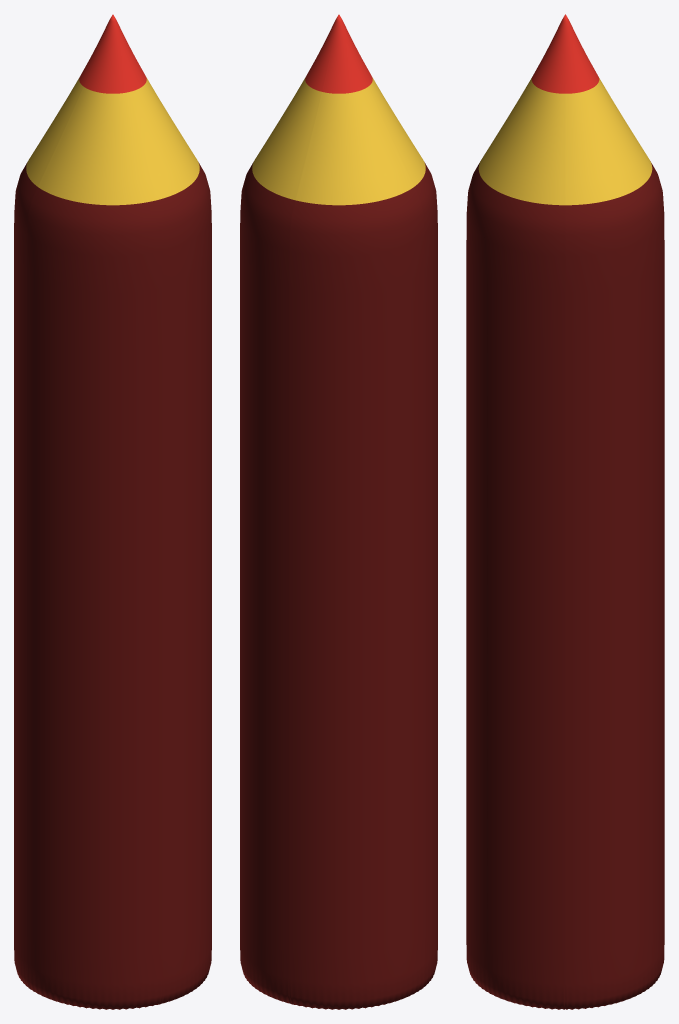
File: Stift.fbx
The picture shows the model from 3 angles, left to right: view 1: azimuth 30°, elevation 25°; view 2: azimuth 150°, elevation 25°; view 3: azimuth 270°, elevation 25°; orthographic projection.
Visible parts, largest first — view 1: Cube; view 2: Cube; view 3: Cube.
Part boxes in pixels (<box>): Cube: <box>14,14,211,1009</box>; Cube: <box>240,14,437,1009</box>; Cube: <box>466,14,664,1009</box>.
Bounding box in the file's own units: 0.0286 × 0.1524 × 0.0286.
